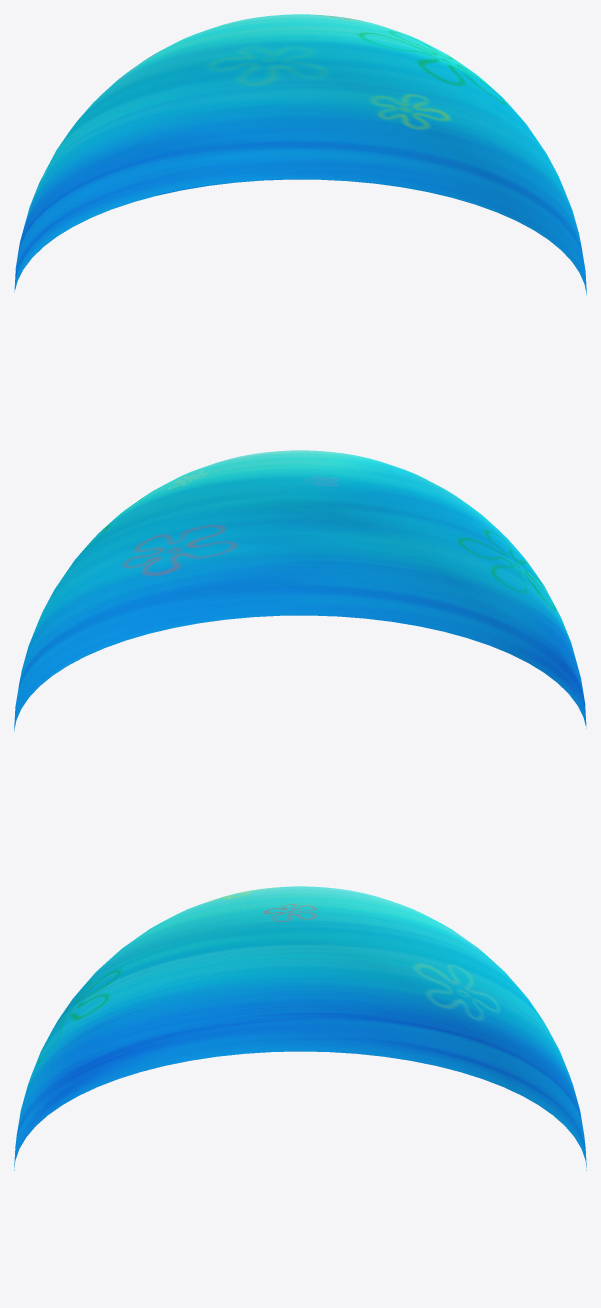
Rendered from skyboxChristmas.glb.
The picture shows the model from 3 angles, top to bottom: view 1: azimuth 30°, elevation 25°; view 2: azimuth 150°, elevation 25°; view 3: azimuth 270°, elevation 25°; orthographic projection.
Parts seen in each view (by area): view 1: Object_2; view 2: Object_2; view 3: Object_2.
Part boxes in pixels (x1=…): Object_2: x1=14, y1=14, x2=586, y2=295; Object_2: x1=14, y1=450, x2=586, y2=731; Object_2: x1=14, y1=886, x2=586, y2=1170.
Bounding box in the file's own units: 144 × 72.13 × 144.
Materials: 1 (1 with a texture image).
